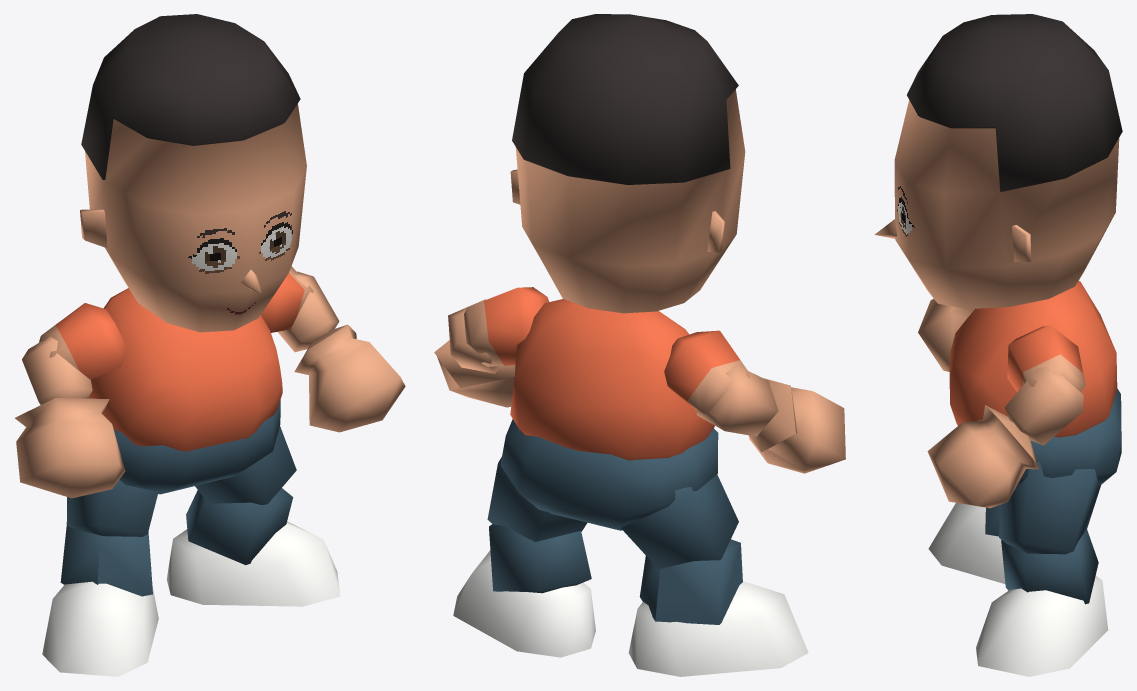
3 views of the same model, side by side, from view 1: azimuth 30°, elevation 25°; view 2: azimuth 150°, elevation 25°; view 3: azimuth 270°, elevation 25° (orthographic). The views are drawn at different scales.
Visible parts, largest first — view 1: Character; view 2: Character; view 3: Character.
Part boxes in pixels (x1=…): Character: x1=15, y1=14, x2=405, y2=676; Character: x1=434, y1=14, x2=845, y2=676; Character: x1=874, y1=14, x2=1122, y2=676.
Bounding box in the file's own units: 1.98 × 2.86 × 1.12.
Materials: 9 (2 with a texture image).
